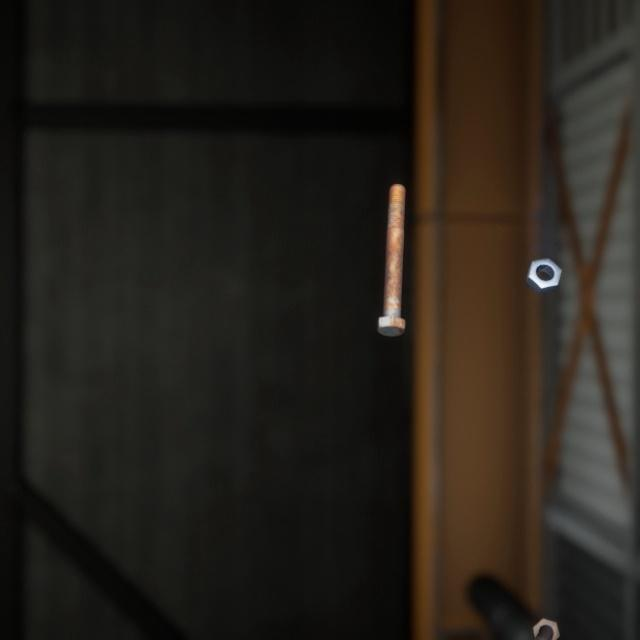bolt: (372, 164, 410, 325), (526, 590, 564, 635)
nut: (521, 237, 566, 281)
